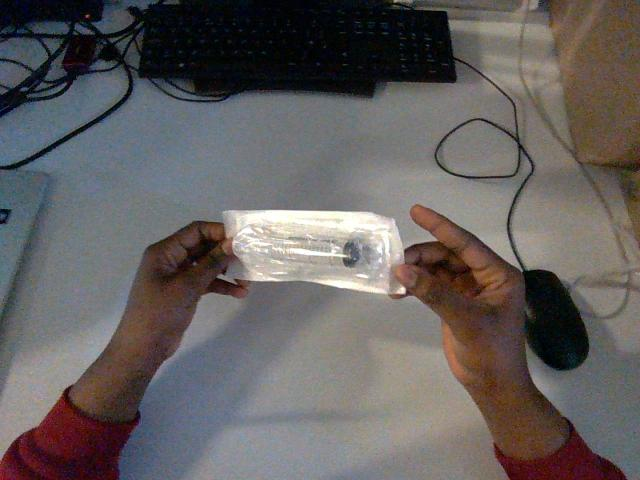syringe: (223, 210, 404, 293)
